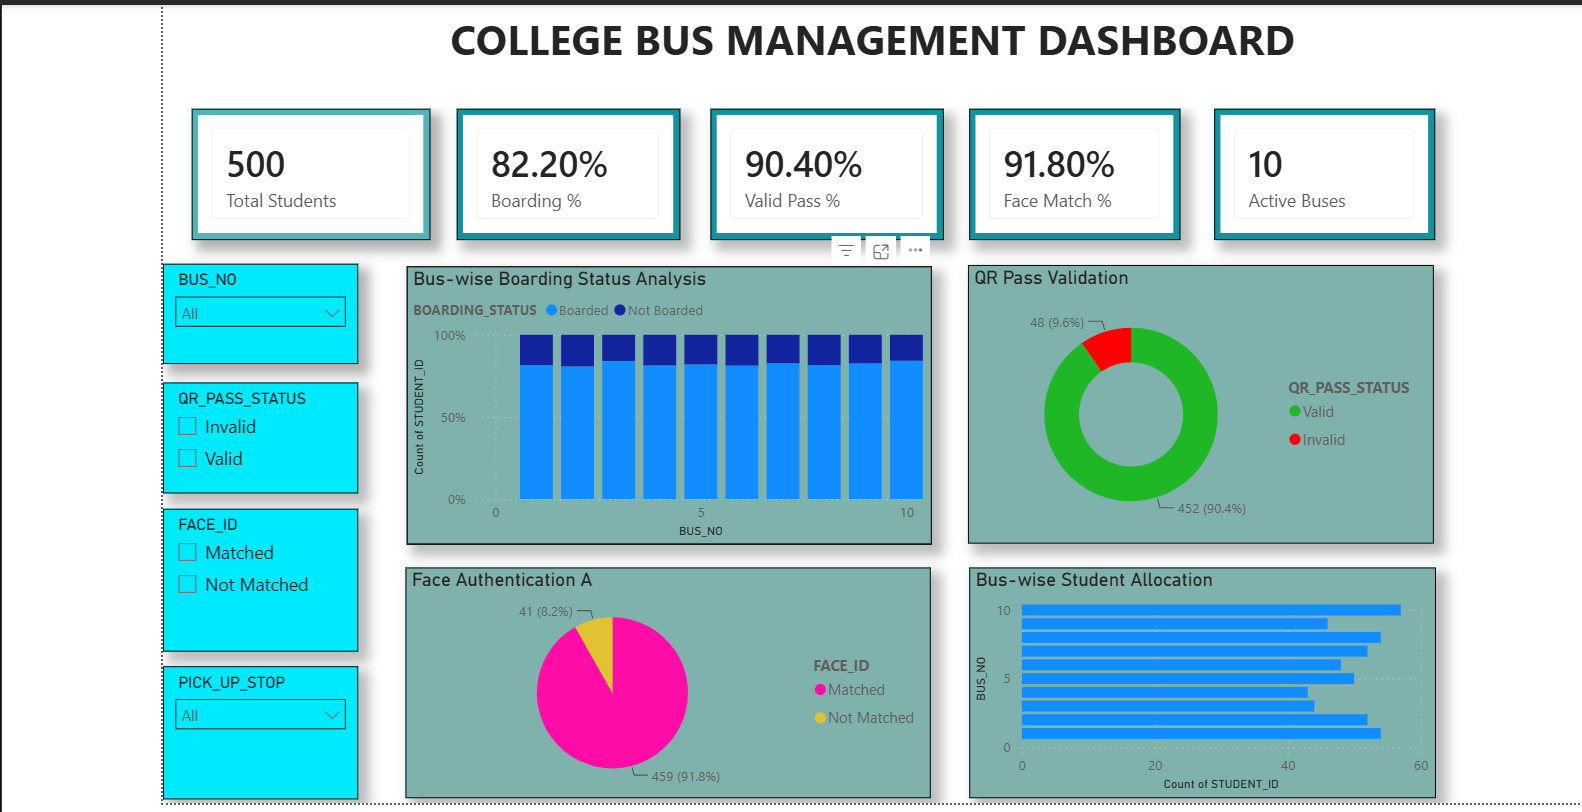

The page's visual inventory and layout, read from the dashboard file:
{"tool":"powerbi","page":{"name":"Main dashboard","canvas":[1280,720],"ordinal":0},"visuals":[{"type":"cardVisual","fields":{"Data":["Bus_Details.Total Students"]},"box":[26.1,93.3,215.2,118.2],"z":0},{"type":"cardVisual","fields":{"Data":["Bus_Details.Boarding %"]},"box":[265,93.3,201.5,118.2],"z":1000},{"type":"cardVisual","fields":{"Data":["Bus_Details.Valid Pass %"]},"box":[493.9,93.3,210.2,118.2],"z":2000},{"type":"cardVisual","fields":{"Data":["Bus_Details.Face Match %"]},"box":[726.5,93.3,190.3,118.2],"z":3000},{"type":"hundredPercentStackedColumnChart","title":"Bus-wise Boarding Status Analysis","fields":{"Category":["Student_Details.BUS_NO"],"Series":["Student_Details.BOARDING_STATUS"],"Y":["CountNonNull(Student_Details.STUDENT_ID)"]},"box":[219.6,236,473.4,251.1],"z":4000},{"type":"donutChart","title":"QR Pass Validation ","fields":{"Category":["Student_Details.QR_PASS_STATUS"],"Y":["CountNonNull(Student_Details.STUDENT_ID)"]},"box":[725.9,234.6,419.9,251.1],"z":5000},{"type":"pieChart","title":"Face Authentication A","fields":{"Category":["Student_Details.FACE_ID"],"Y":["CountNonNull(Student_Details.STUDENT_ID)"]},"box":[218.9,507.5,473.9,207.7],"z":6000},{"type":"clusteredBarChart","title":"Bus-wise Student Allocation","fields":{"Category":["Bus_Details.BUS_NO"],"Y":["CountNonNull(Student_Details.STUDENT_ID)"]},"box":[726.5,507.5,420.5,207.7],"z":7000},{"type":"textbox","box":[0,0,1280,92.9],"z":8000},{"type":"slicer","fields":{"Values":["Student_Details.BUS_NO"]},"box":[0,232.9,175.7,90],"z":9000},{"type":"slicer","fields":{"Values":["Student_Details.QR_PASS_STATUS"]},"box":[0,340,175.7,100],"z":10000},{"type":"slicer","fields":{"Values":["Student_Details.FACE_ID"]},"box":[0,454.3,175.7,128.6],"z":11000},{"type":"slicer","fields":{"Values":["Student_Details.PICK_UP_STOP"]},"box":[0,595.7,175.7,120],"z":12000},{"type":"cardVisual","fields":{"Data":["Bus_Details.Active Buses"]},"box":[947.9,93.3,199,118.2],"z":13000}]}

Visuals, with their boxes in screenshot pixels (x1, y1, x2, y2):
cardVisual - Bus_Details.Total Students: <region>186, 104, 425, 235</region>
cardVisual - Bus_Details.Boarding %: <region>451, 104, 675, 235</region>
cardVisual - Bus_Details.Valid Pass %: <region>706, 104, 939, 235</region>
cardVisual - Bus_Details.Face Match %: <region>964, 104, 1176, 235</region>
"Bus-wise Boarding Status Analysis" hundredPercentStackedColumnChart: <region>401, 262, 927, 541</region>
"QR Pass Validation " donutChart: <region>963, 261, 1430, 540</region>
"Face Authentication A" pieChart: <region>400, 564, 927, 795</region>
"Bus-wise Student Allocation" clusteredBarChart: <region>964, 564, 1432, 795</region>
textbox: <region>157, 0, 1579, 103</region>
slicer - Student_Details.BUS_NO: <region>157, 259, 352, 359</region>
slicer - Student_Details.QR_PASS_STATUS: <region>157, 378, 352, 489</region>
slicer - Student_Details.FACE_ID: <region>157, 505, 352, 648</region>
slicer - Student_Details.PICK_UP_STOP: <region>157, 662, 352, 796</region>
cardVisual - Bus_Details.Active Buses: <region>1210, 104, 1431, 235</region>
